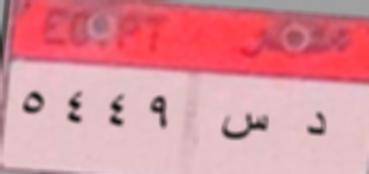4: (101, 88, 133, 137), (56, 91, 96, 130)
5: (16, 91, 50, 126)
9: (144, 94, 177, 135)
daal: (298, 97, 334, 145)
seen: (211, 110, 273, 144)
